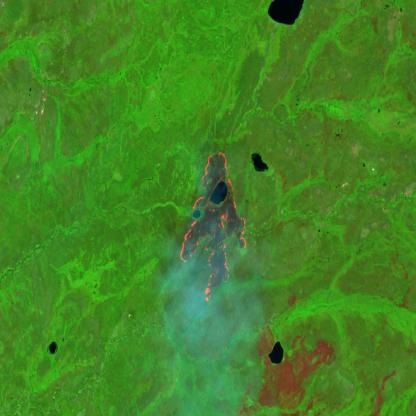fire: (173, 145, 251, 305)
